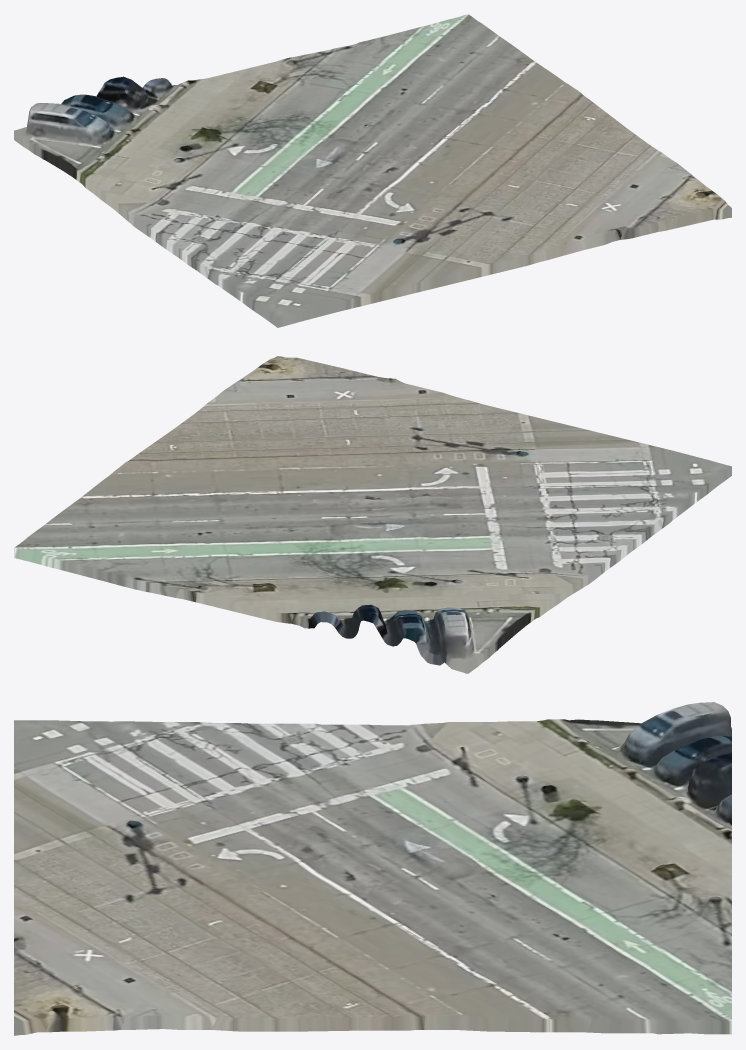
Rendered from z20-167784-405215-h0-yup-uvflip-v3-world.glb.
3 renders of one model, top to bottom at view 1: azimuth 30°, elevation 25°; view 2: azimuth 150°, elevation 25°; view 3: azimuth 270°, elevation 25°, orthographic. The views are drawn at different scales.
Bounding box in the file's own units: 30.16 × 2.4 × 30.32.
Materials: 1 (1 with a texture image).
